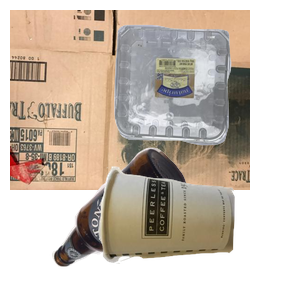cardboard: (10, 10, 250, 190)
glass: (49, 145, 229, 300)
plastic: (112, 22, 300, 160)
trash: (95, 164, 300, 300)
